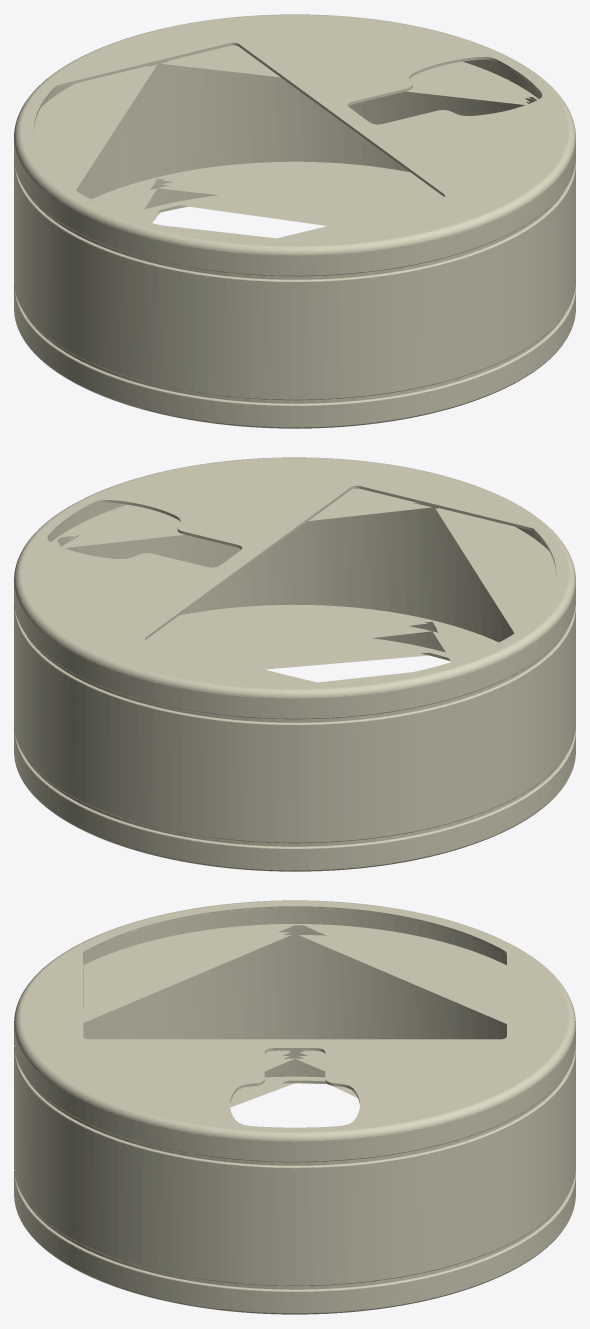
3 views of the same model, one above another, from view 1: azimuth 30°, elevation 25°; view 2: azimuth 150°, elevation 25°; view 3: azimuth 270°, elevation 25° (orthographic).
Visible parts, largest first — view 1: Base; view 2: Base; view 3: Base.
Boxes of the visible parts, x1,y1,x2,y2 form: Base: (14, 14, 575, 428); Base: (14, 457, 575, 871); Base: (14, 900, 575, 1314).
Bounding box in the file's own units: 0.3701 × 0.3701 × 0.131.
1 material, 1 textured.
